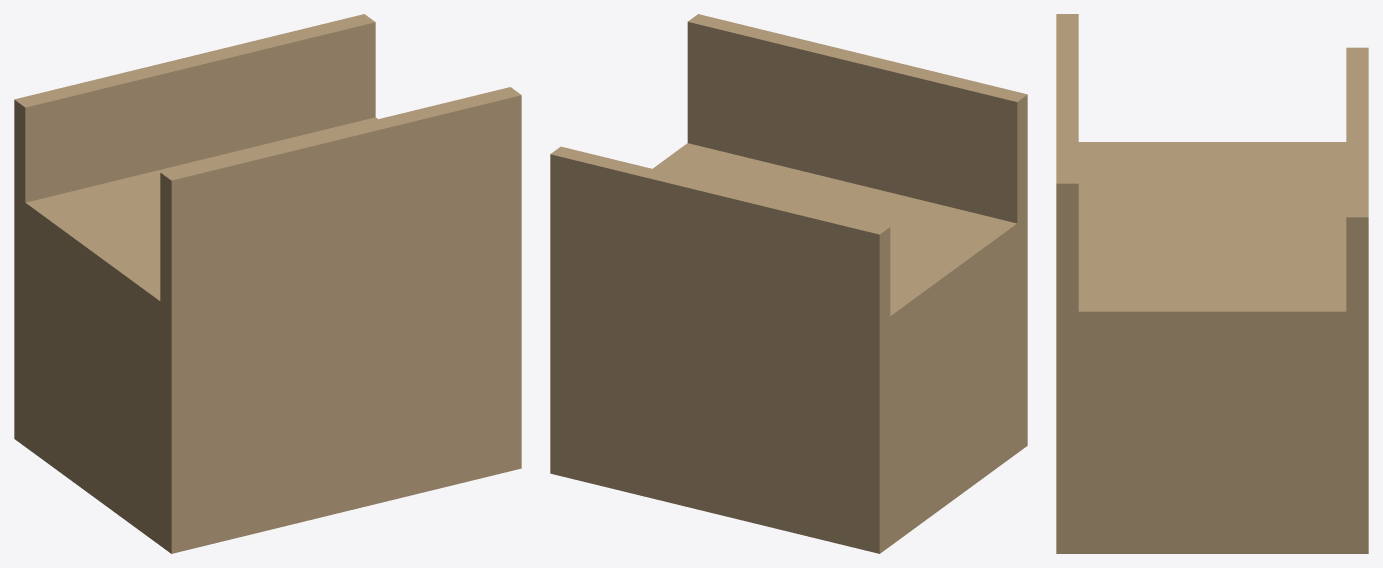
File: CardboardBox_Open.gltf
3 views of the same model, side by side, from view 1: azimuth 30°, elevation 25°; view 2: azimuth 150°, elevation 25°; view 3: azimuth 270°, elevation 25° (orthographic). The views are drawn at different scales.
Visible parts, largest first — view 1: A_CardboardBox_Open; view 2: A_CardboardBox_Open; view 3: A_CardboardBox_Open.
Boxes of the visible parts, bbox=[...] form: A_CardboardBox_Open: bbox=[14, 14, 521, 553]; A_CardboardBox_Open: bbox=[550, 14, 1027, 553]; A_CardboardBox_Open: bbox=[1056, 14, 1368, 553].
Bounding box in the file's own units: 0.54 × 0.55 × 0.42.
